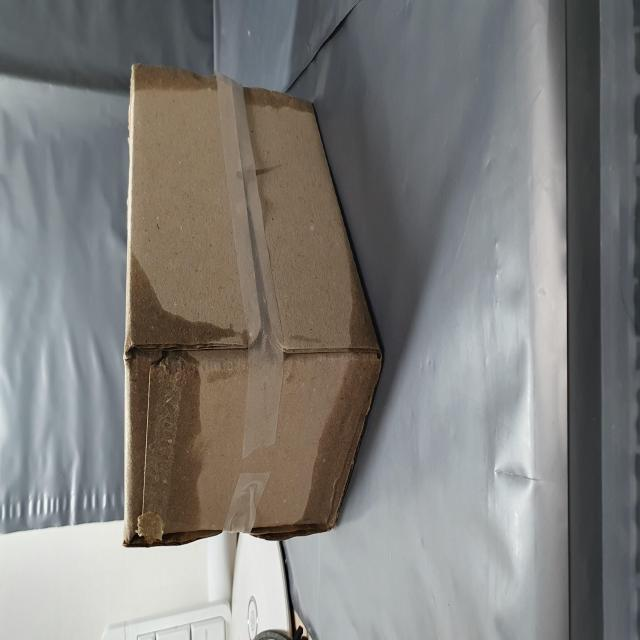wet: (60, 216, 226, 423), (56, 512, 216, 640), (299, 236, 326, 370)
